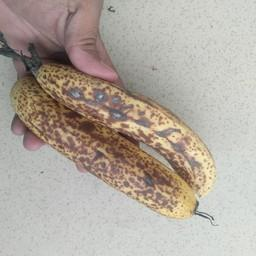Bad_banana: (12, 81, 196, 216), (38, 66, 218, 193)
